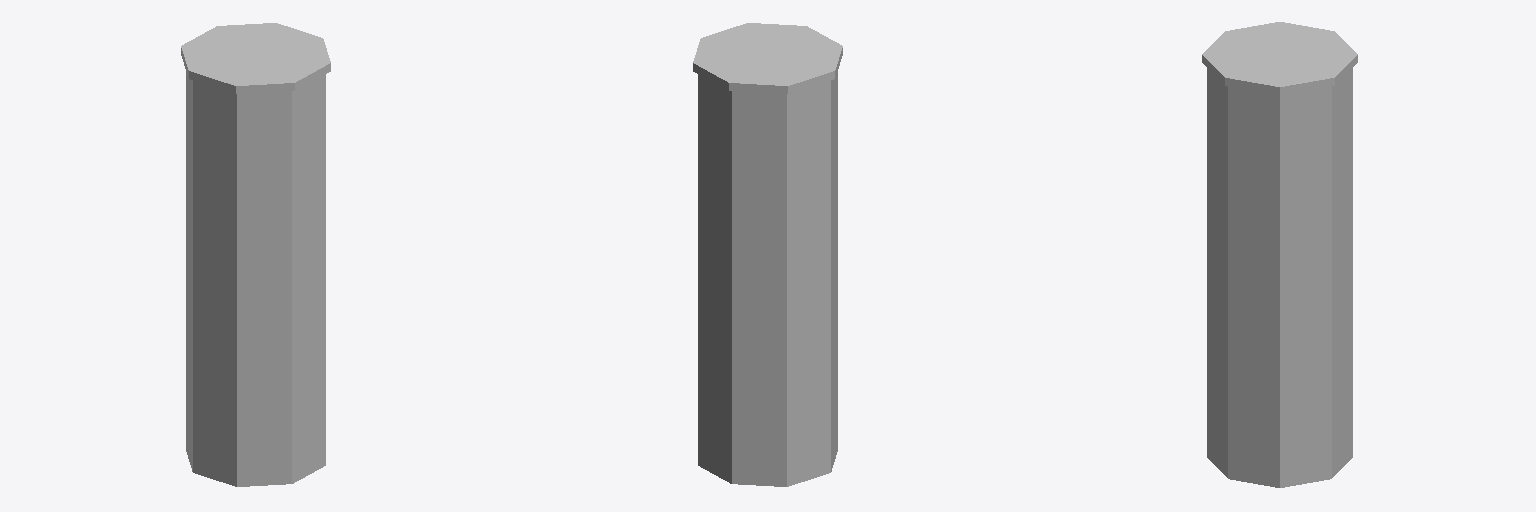
Rendered from chips_001.obj.
The picture shows the model from 3 angles: view 1: azimuth 30°, elevation 25°; view 2: azimuth 150°, elevation 25°; view 3: azimuth 270°, elevation 25°; orthographic projection.
Parts seen in each view (by area): view 1: chips_001; view 2: chips_001; view 3: chips_001.
Boxes of the visible parts, x1,y1,x2,y2 form: chips_001: [181, 23, 330, 486]; chips_001: [693, 23, 842, 486]; chips_001: [1202, 22, 1357, 487].
Bounding box in the file's own units: 0.0809 × 0.2316 × 0.0809.